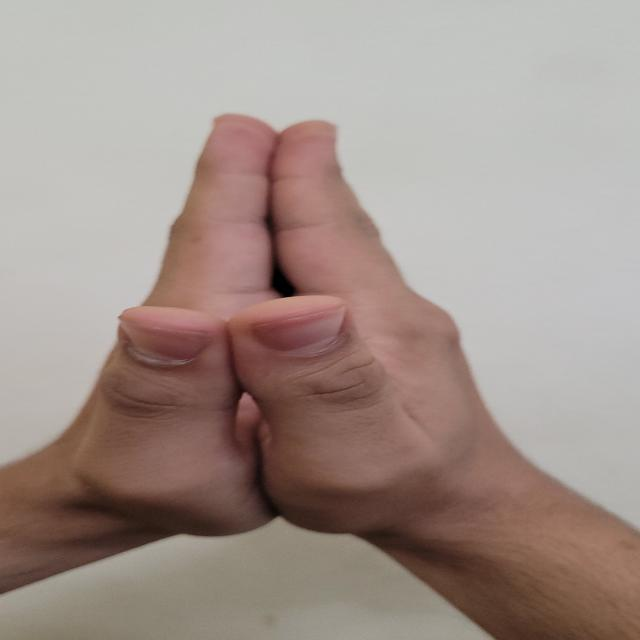Thank You: (33, 86, 583, 588)
